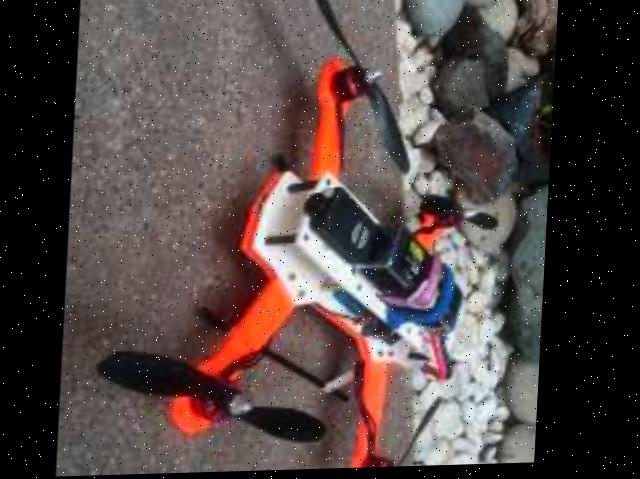drone: (124, 0, 504, 476)
